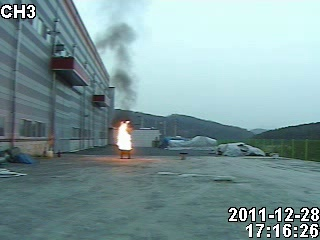fire: (114, 119, 134, 152)
smoke: (95, 2, 144, 117)
